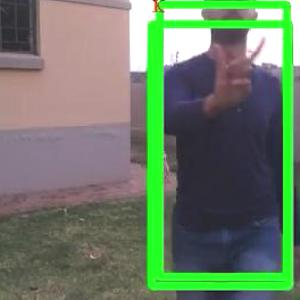takeoff-hand: (206, 33, 272, 109)
